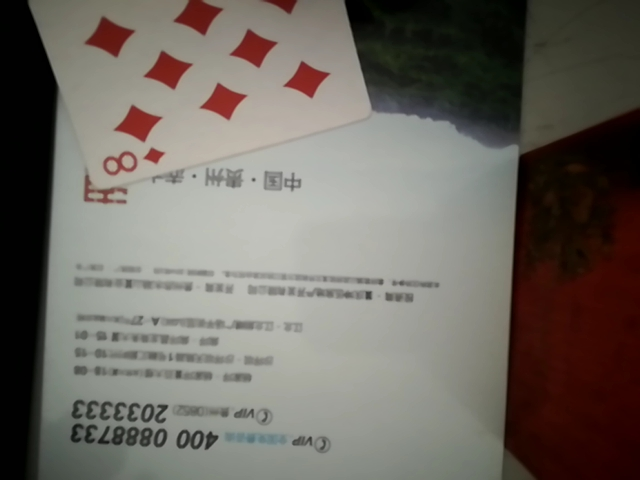fk 8: (41, 0, 374, 194)
